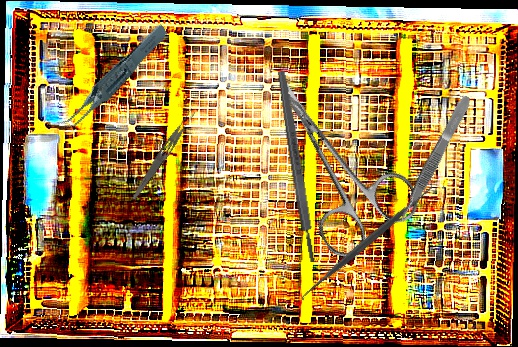Dressing Forceps: (129, 105, 199, 204)
Iris Scissors: (241, 53, 427, 265)
Scalpel Handle: (275, 70, 319, 263)
Spatula Surgical: (294, 177, 441, 305)
Tissue Forceps: (40, 22, 184, 133), (394, 93, 475, 223)
